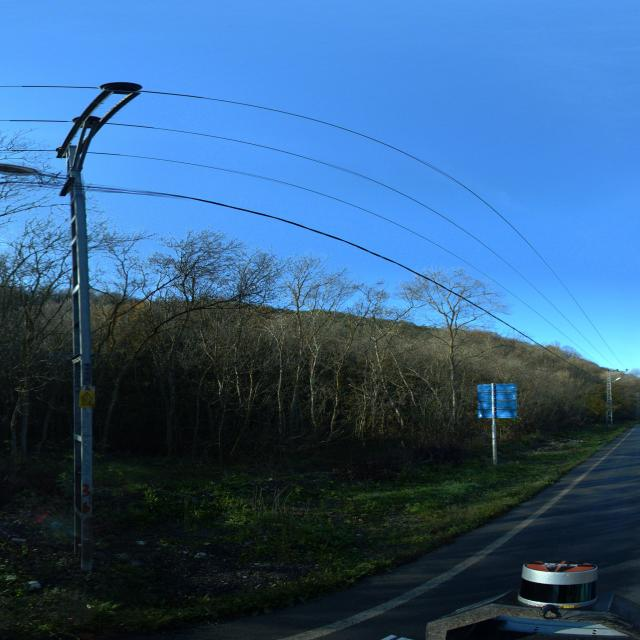Utility Pole Information Plate: (78, 391, 96, 408)
